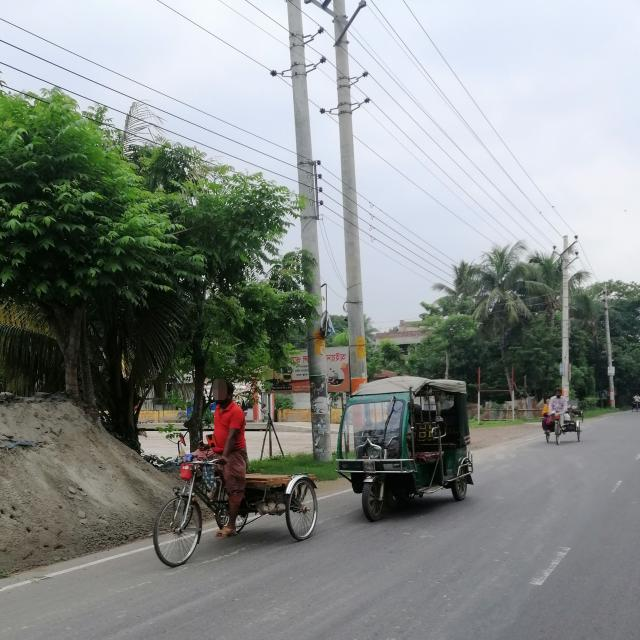Easybike: (337, 379, 477, 525)
Van: (150, 463, 323, 569)
